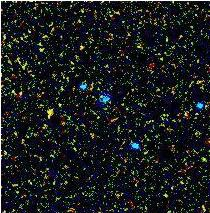star: (37, 97, 67, 127)
